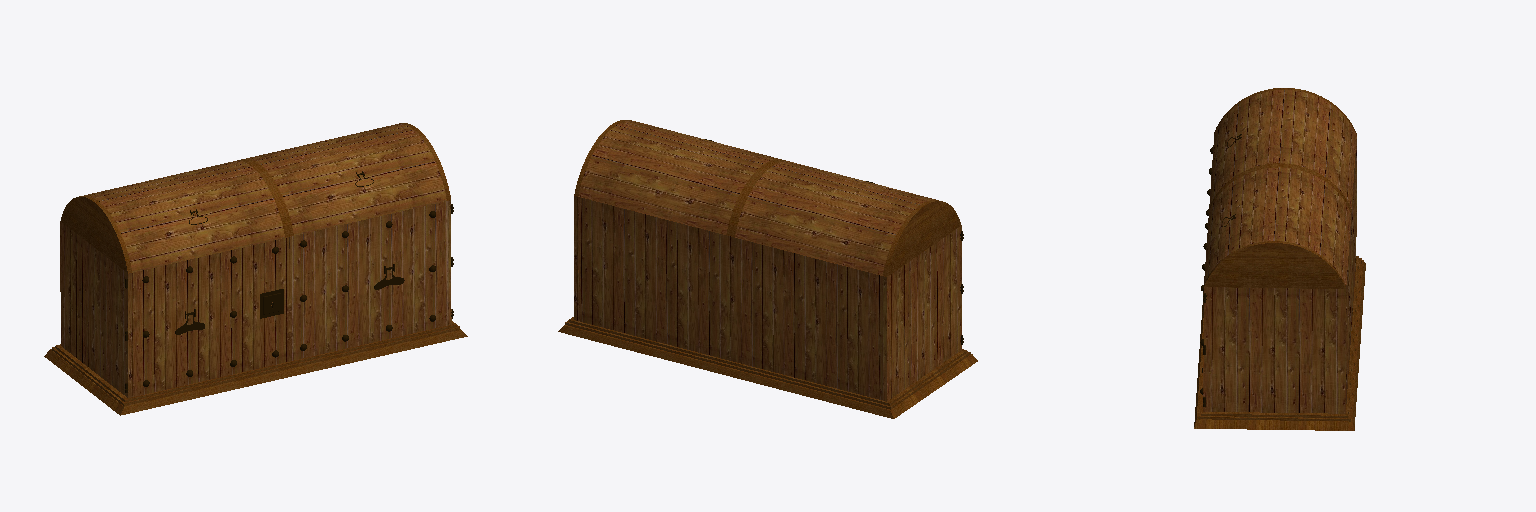
The picture shows the model from 3 angles: view 1: azimuth 30°, elevation 25°; view 2: azimuth 150°, elevation 25°; view 3: azimuth 270°, elevation 25°; orthographic projection.
Visible parts, largest first — view 1: Mesh.065_Mesh.082_Rectangl21, Mesh.074_Mesh.041_Rectangle2, Mesh.052_Mesh.056_Arc12, Mesh.080_Mesh.008_Arc04, Mesh.069_Mesh.040_Rectangle3, Mesh.028_Mesh.037_Rectangle6, Mesh.081_Mesh.009_Arc07, Mesh.099_Mesh.039_Rectangle4, Mesh.049_Mesh.038_Rectangle5; view 2: Mesh.068_Mesh.042_Rectangle1, Mesh.080_Mesh.008_Arc04, Mesh.052_Mesh.056_Arc12, Mesh.069_Mesh.040_Rectangle3, Mesh.028_Mesh.037_Rectangle6, Mesh.081_Mesh.009_Arc07, Mesh.099_Mesh.039_Rectangle4, Mesh.049_Mesh.038_Rectangle5, Mesh.026_Mesh.043_Rectangle0; view 3: Mesh.026_Mesh.043_Rectangle0, Mesh.052_Mesh.056_Arc12, Mesh.080_Mesh.008_Arc04, Mesh.062_Mesh.057_Arc10, Mesh.028_Mesh.037_Rectangle6, Mesh.068_Mesh.042_Rectangle1, Mesh.099_Mesh.039_Rectangle4, Mesh.049_Mesh.038_Rectangle5.
Part boxes in pixels (x1,y1,x2,y2): Mesh.065_Mesh.082_Rectangl21: (289, 201, 446, 360); Mesh.074_Mesh.041_Rectangle2: (132, 237, 289, 396); Mesh.052_Mesh.056_Arc12: (246, 124, 446, 235); Mesh.080_Mesh.008_Arc04: (84, 161, 284, 272); Mesh.069_Mesh.040_Rectangle3: (60, 221, 132, 397); Mesh.028_Mesh.037_Rectangle6: (44, 329, 467, 415); Mesh.081_Mesh.009_Arc07: (61, 196, 131, 273); Mesh.099_Mesh.039_Rectangle4: (55, 321, 456, 401); Mesh.049_Mesh.038_Rectangle5: (52, 325, 459, 405); Mesh.068_Mesh.042_Rectangle1: (578, 197, 882, 399); Mesh.080_Mesh.008_Arc04: (735, 161, 935, 275); Mesh.052_Mesh.056_Arc12: (578, 121, 777, 234); Mesh.069_Mesh.040_Rectangle3: (883, 226, 961, 401); Mesh.028_Mesh.037_Rectangle6: (558, 325, 977, 418); Mesh.081_Mesh.009_Arc07: (883, 200, 961, 276); Mesh.099_Mesh.039_Rectangle4: (569, 317, 966, 405); Mesh.049_Mesh.038_Rectangle5: (565, 320, 970, 409); Mesh.026_Mesh.043_Rectangle0: (574, 196, 578, 320); Mesh.026_Mesh.043_Rectangle0: (1203, 287, 1345, 413); Mesh.052_Mesh.056_Arc12: (1204, 167, 1350, 284); Mesh.080_Mesh.008_Arc04: (1209, 90, 1356, 208); Mesh.062_Mesh.057_Arc10: (1204, 241, 1345, 288); Mesh.028_Mesh.037_Rectangle6: (1194, 260, 1365, 430); Mesh.068_Mesh.042_Rectangle1: (1346, 139, 1356, 403); Mesh.099_Mesh.039_Rectangle4: (1201, 256, 1358, 417); Mesh.049_Mesh.038_Rectangle5: (1198, 258, 1361, 421).
Bounding box in the file's own units: 1.65 × 0.8238 × 0.7082.
Materials: 3 (2 with a texture image).